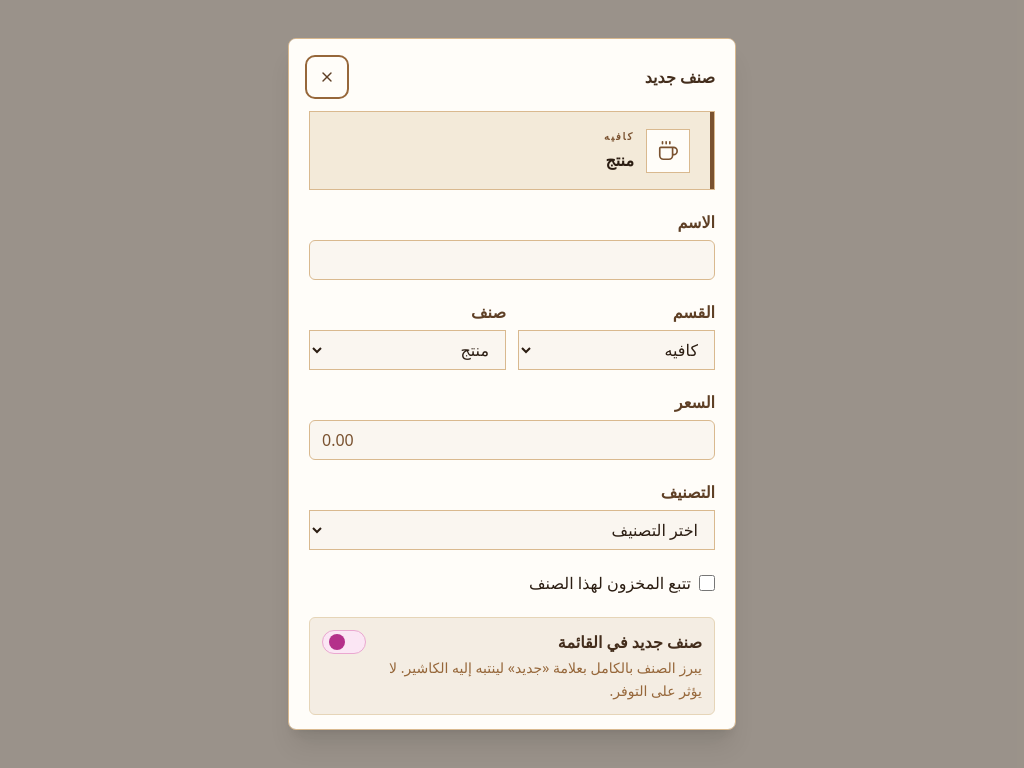
CreateProductDialog › exposes current quantity and minimum stock as two independent fields once tracked
The width and height of the screenshot is (1024, 768).
# The numeric fields only render once the item is tracked.
Click the checkbox labelled "تتبع المخزون لهذا الصنف": (707, 584) [699,576,715,592]
(page scrolled)
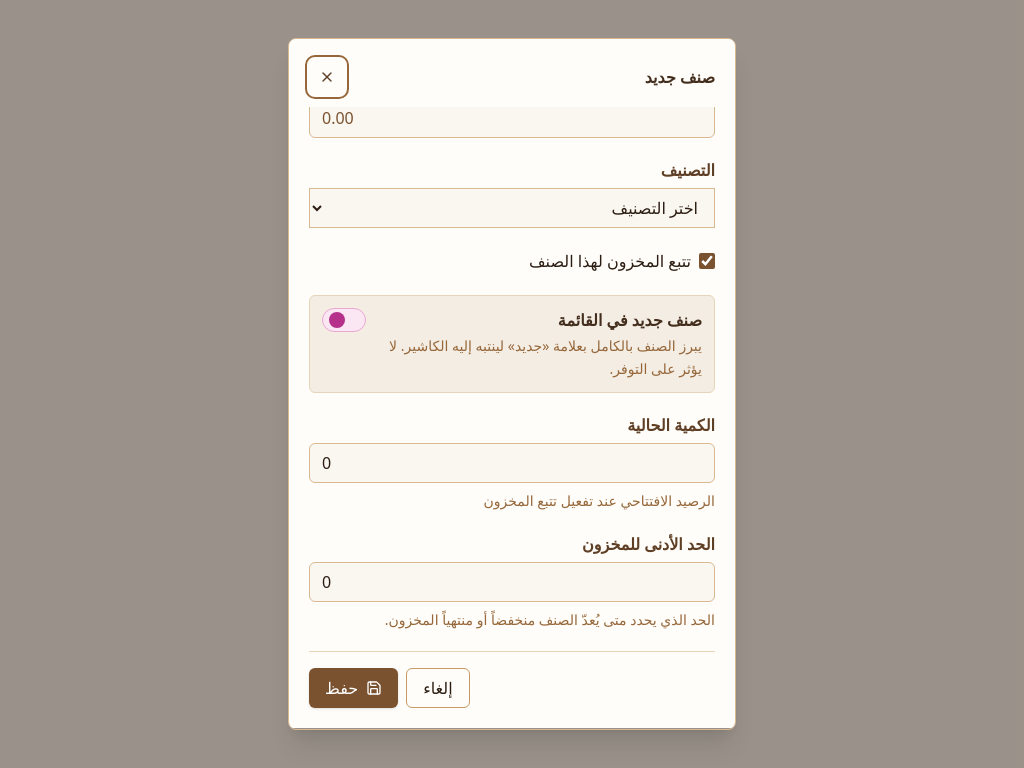
Expected: the field labelled "الكمية الحالية" is shown, [309,443,715,483]
Expected: the field labelled "الحد الأدنى للمخزون" is shown, [309,562,715,602]
